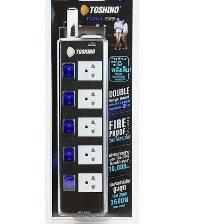book: (44, 0, 141, 224)
three_eye_plug: (52, 32, 107, 217)
